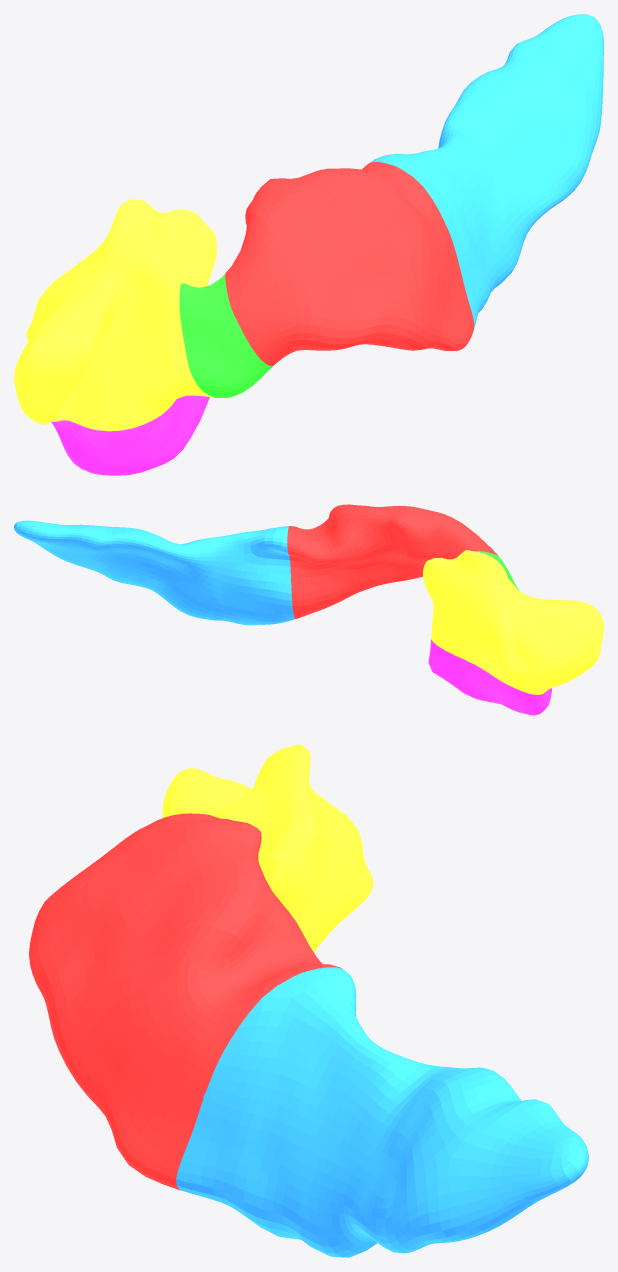
File: pankreas-female-mobil.glb
3 views of the same model, one above another, from view 1: azimuth 30°, elevation 25°; view 2: azimuth 150°, elevation 25°; view 3: azimuth 270°, elevation 25° (orthographic). The views are drawn at different scales.
Parts seen in each view (by area): view 1: 0:0:VH_F_body_of_pancreas, 0:3:VH_F_tail_of_pancreas, 0:1:VH_F_head_of_pancreas, 0:2:VH_F_neck_of_pancreas, 0:4:VH_F_ucinate_process1; view 2: 0:3:VH_F_tail_of_pancreas, 0:1:VH_F_head_of_pancreas, 0:0:VH_F_body_of_pancreas, 0:4:VH_F_ucinate_process1; view 3: 0:3:VH_F_tail_of_pancreas, 0:0:VH_F_body_of_pancreas, 0:1:VH_F_head_of_pancreas.
Boxes of the visible parts, left/top/right/bottom form: 0:0:VH_F_body_of_pancreas: left=225, top=162, right=474, bottom=365; 0:3:VH_F_tail_of_pancreas: left=370, top=14, right=603, bottom=328; 0:1:VH_F_head_of_pancreas: left=14, top=199, right=216, bottom=431; 0:2:VH_F_neck_of_pancreas: left=179, top=273, right=273, bottom=397; 0:4:VH_F_ucinate_process1: left=51, top=395, right=209, bottom=475; 0:3:VH_F_tail_of_pancreas: left=14, top=520, right=294, bottom=625; 0:1:VH_F_head_of_pancreas: left=423, top=550, right=603, bottom=694; 0:0:VH_F_body_of_pancreas: left=287, top=504, right=498, bottom=619; 0:4:VH_F_ucinate_process1: left=428, top=639, right=551, bottom=715; 0:3:VH_F_tail_of_pancreas: left=176, top=967, right=588, bottom=1257; 0:0:VH_F_body_of_pancreas: left=29, top=813, right=341, bottom=1190; 0:1:VH_F_head_of_pancreas: left=162, top=744, right=373, bottom=952.
Bounding box in the file's own units: 0.172 × 0.0565 × 0.0844.
